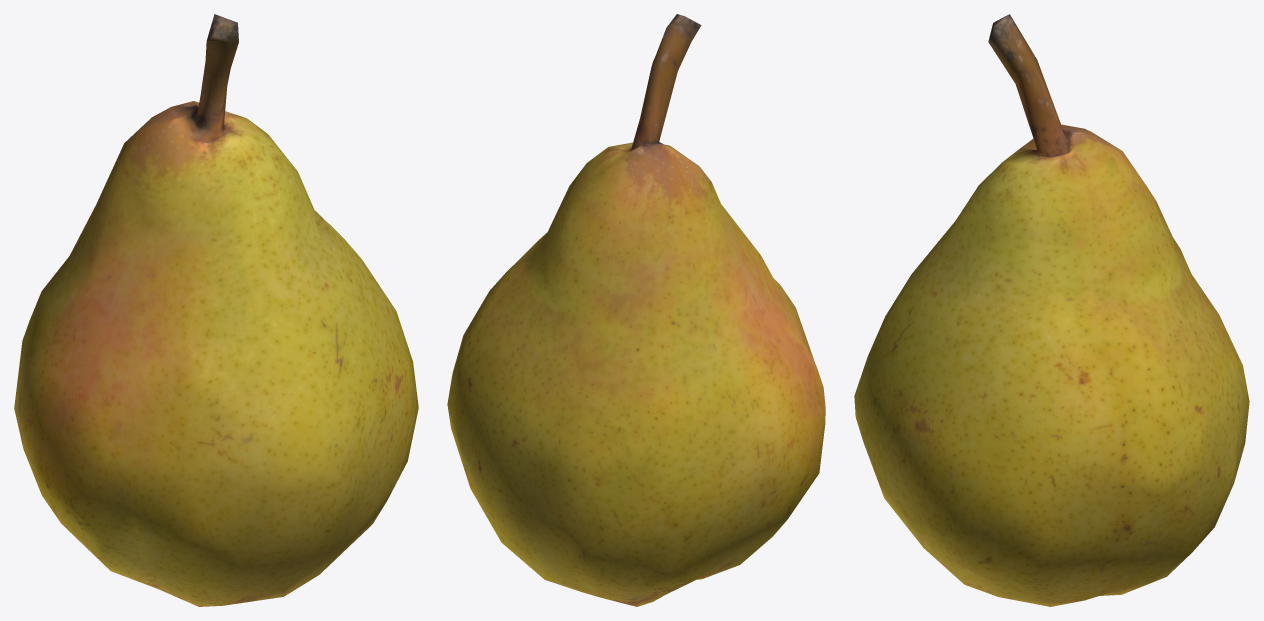
The model's file is 3DPear004_LQ-2K-JPG.obj.
3 views of the same model, side by side, from view 1: azimuth 30°, elevation 25°; view 2: azimuth 150°, elevation 25°; view 3: azimuth 270°, elevation 25° (orthographic). The views are drawn at different scales.
Parts seen in each view (by area): view 1: 3DPear004_LQ-2K-JPG; view 2: 3DPear004_LQ-2K-JPG; view 3: 3DPear004_LQ-2K-JPG.
Part boxes in pixels (bbox=[...]): 3DPear004_LQ-2K-JPG: bbox=[14, 14, 418, 606]; 3DPear004_LQ-2K-JPG: bbox=[447, 14, 825, 606]; 3DPear004_LQ-2K-JPG: bbox=[854, 14, 1249, 606].
Bounding box in the file's own units: 0.059 × 0.0954 × 0.0604.
Materials: 1 (1 with a texture image).
